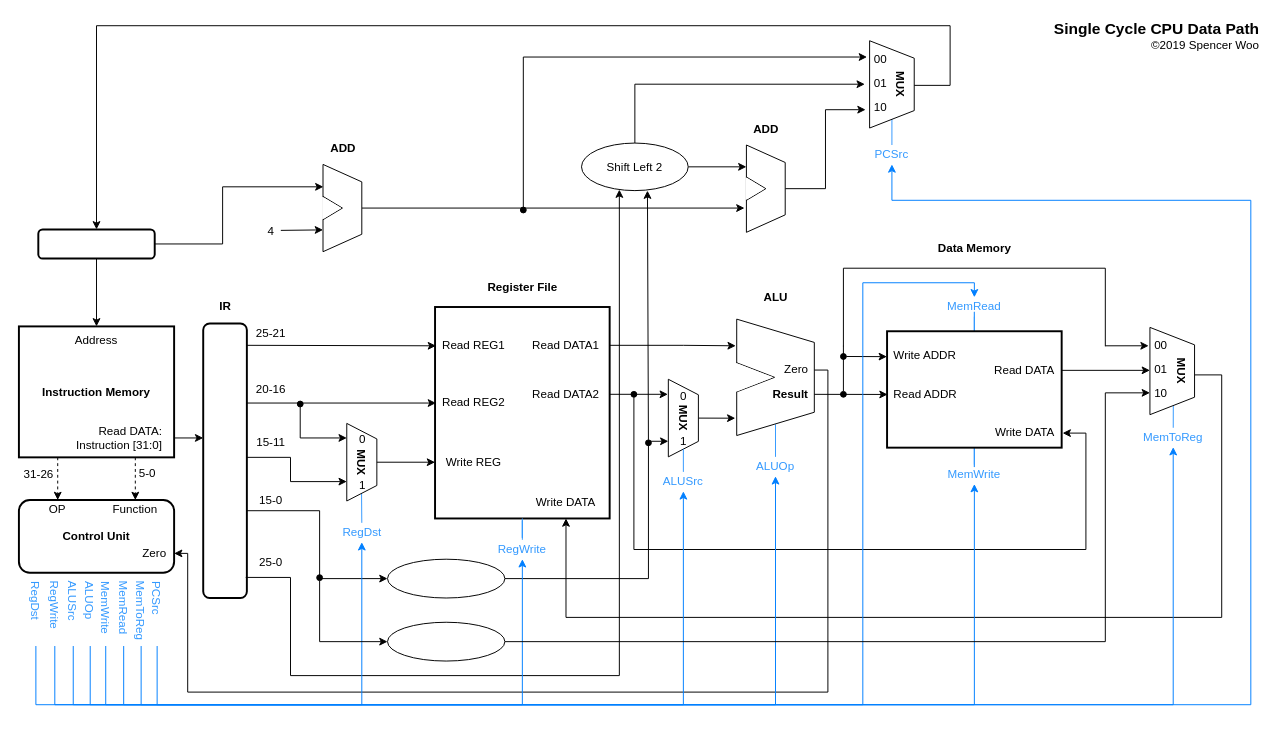
Some shapes in this 1277 by 729 pixel diagram are drawn without their labels. The shapes that lost their labels are listed below. From the top down, each one's centre as x and y in pixels, then its label:
point 96,243: PC
point 224,460: rs rt rd imm16 imm26
point 446,578: Sign Extend
point 446,641: Shift Left 16
